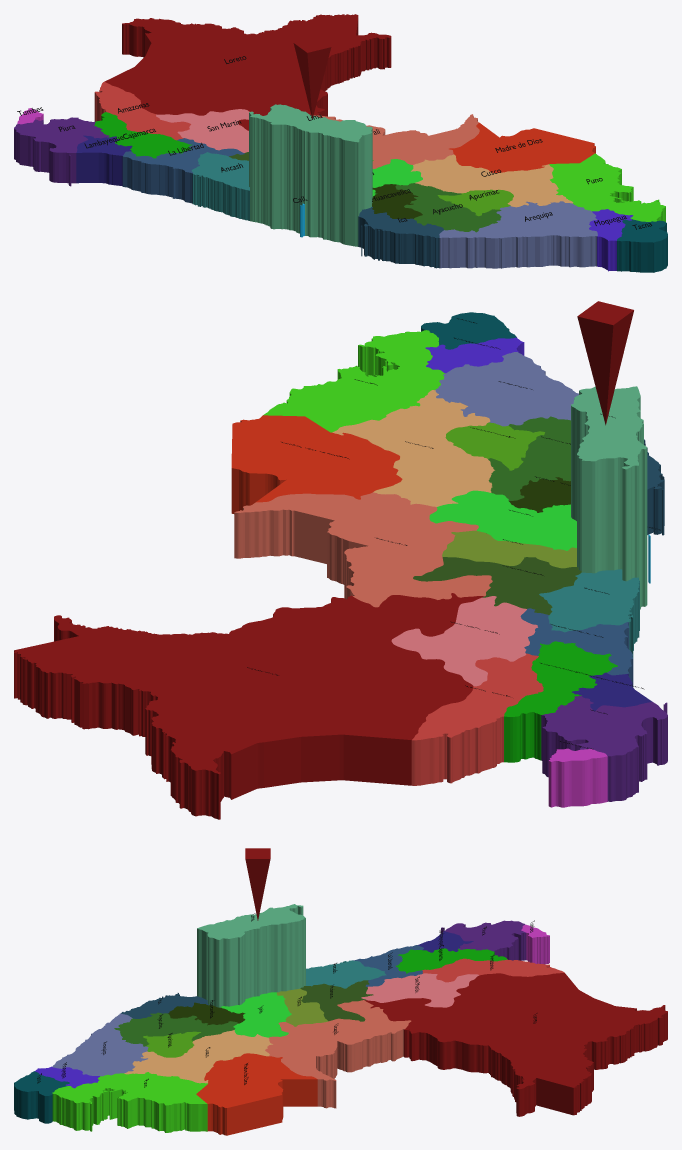
Rendered from archivo.glb.
3 renders of one model, top to bottom at view 1: azimuth 30°, elevation 25°; view 2: azimuth 150°, elevation 25°; view 3: azimuth 270°, elevation 25°, orthographic. The views are drawn at different scales.
Parts seen in each view (by area): view 1: map.002, Indicator.004; view 2: map.002, Indicator.004; view 3: map.002, Indicator.004.
Part boxes in pixels (x1=…): map.002: x1=14, y1=14, x2=667, y2=272; Indicator.004: x1=293, y1=37, x2=331, y2=118; map.002: x1=14, y1=312, x2=667, y2=819; Indicator.004: x1=577, y1=301, x2=633, y2=425; map.002: x1=14, y1=904, x2=667, y2=1135; Indicator.004: x1=245, y1=848, x2=270, y2=920.
Bounding box in the file's own units: 1.33 × 0.5428 × 1.96.
